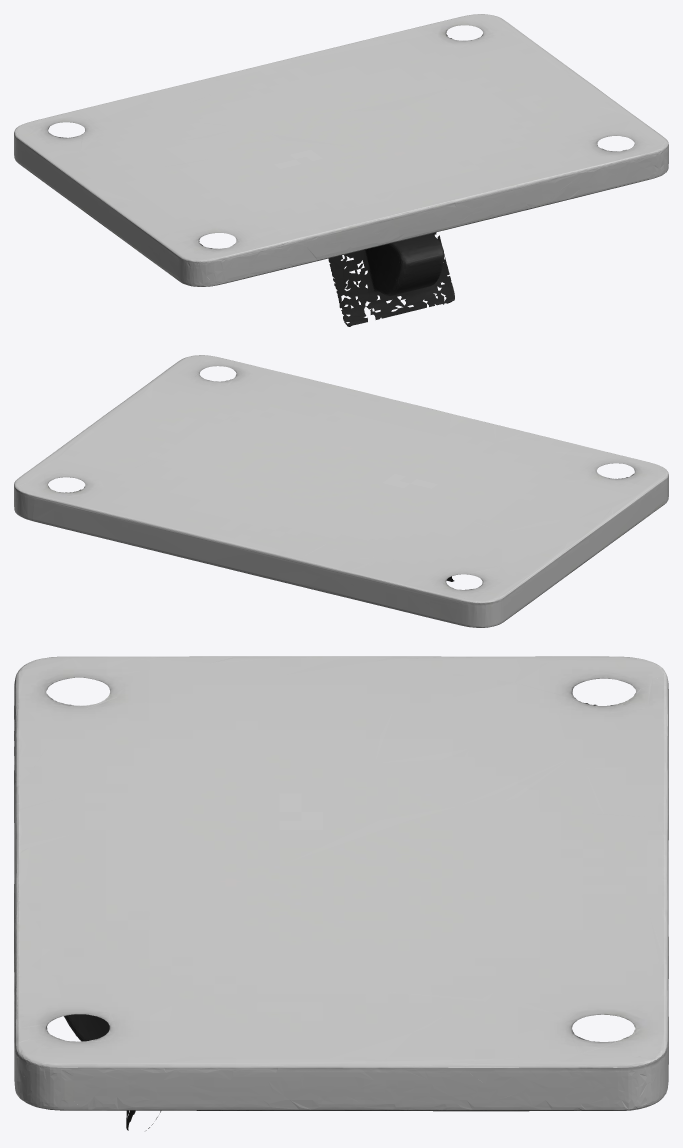
The picture shows the model from 3 angles, top to bottom: view 1: azimuth 30°, elevation 25°; view 2: azimuth 150°, elevation 25°; view 3: azimuth 270°, elevation 25°; orthographic projection. The views are drawn at different scales.
Parts seen in each view (by area): view 1: geometry_0; view 2: geometry_0; view 3: geometry_0.
Part boxes in pixels (<box>): geometry_0: <box>14,14,668,326</box>; geometry_0: <box>14,355,668,627</box>; geometry_0: <box>14,656,668,1130</box>.
Size of the model in its own units: 1 by 0.2652 by 0.6734.
Materials: 1 (1 with a texture image).
